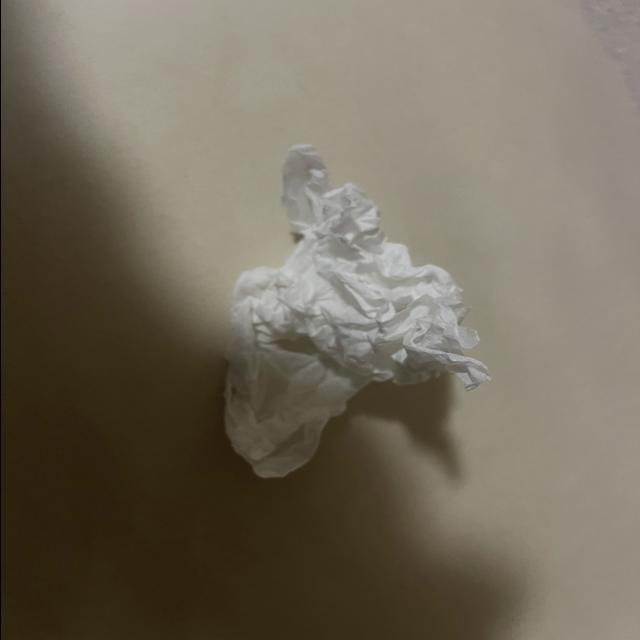Paper: (176, 139, 514, 517)
